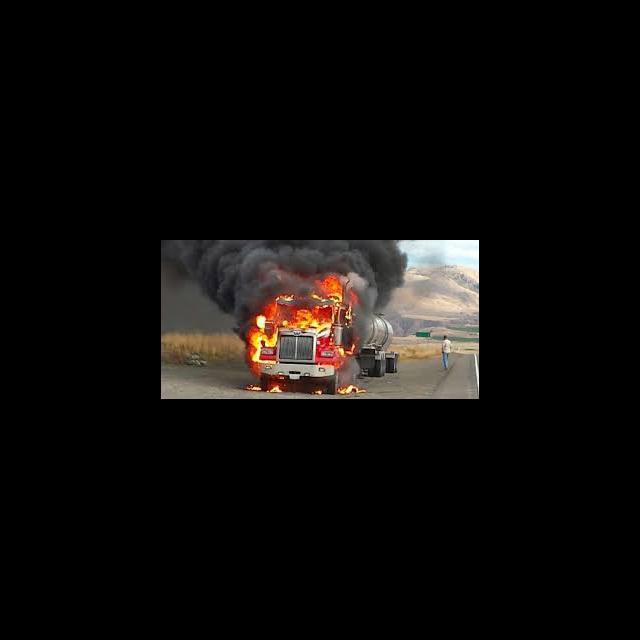Fire: (248, 316, 276, 362), (280, 304, 332, 328), (322, 278, 344, 303), (338, 382, 366, 396), (260, 302, 278, 316), (268, 382, 284, 396), (246, 382, 262, 392), (314, 388, 324, 395)
Smoke: (163, 242, 318, 290), (354, 240, 408, 308), (200, 290, 260, 314), (318, 240, 354, 274)
